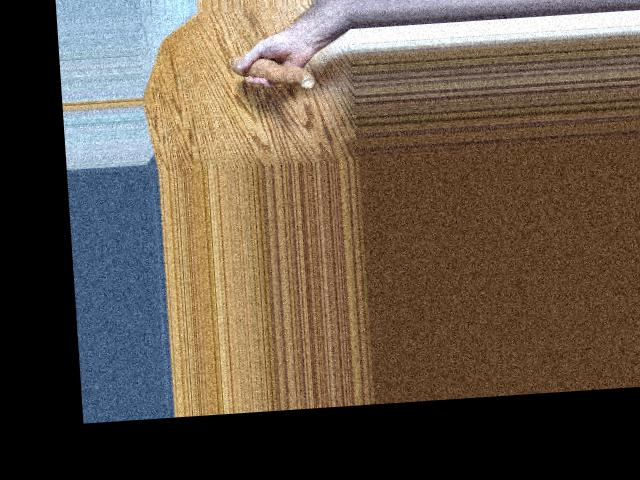sweet_potato: (227, 52, 320, 92)
